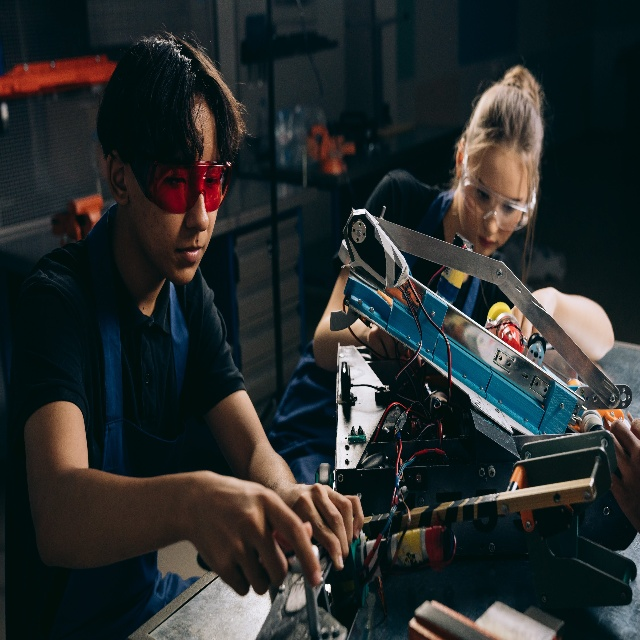Gafas: (121, 143, 231, 216), (462, 163, 541, 231)
Sin_guantes: (203, 471, 324, 604), (278, 478, 364, 574), (606, 411, 640, 531), (365, 325, 404, 357)
